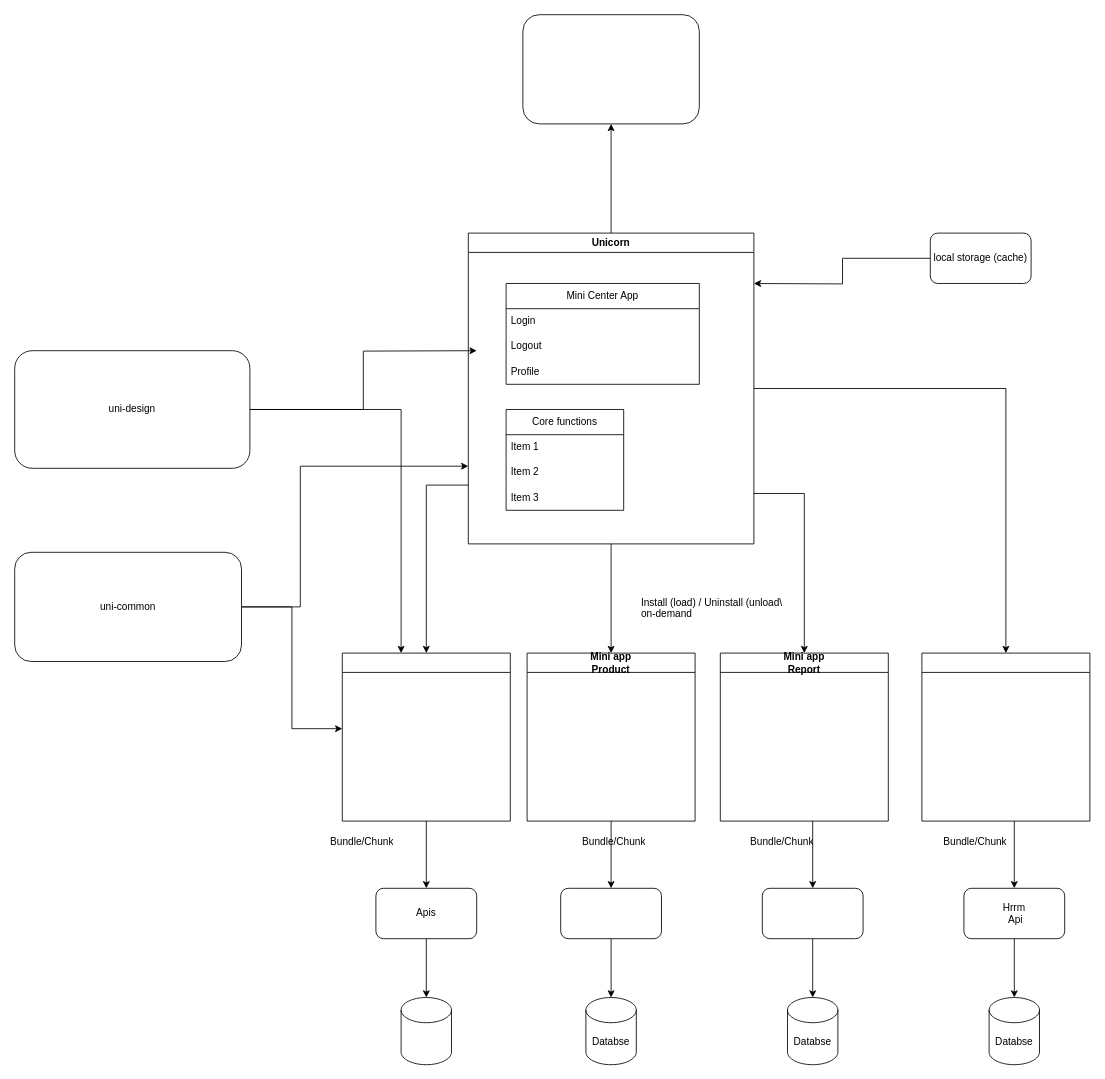
Image size: 1105x1079. Some labels were removed from this diagram. Each missing label, with the centre of its shape:
"Databse Order" goes at [426,1031].
"K eycloak" goes at [610,69].
"Mini app Hrm" goes at [1005,736].
"Mini app Order" goes at [425,736].
"Product Api" goes at [611,913].
"Report Api" goes at [812,913].
